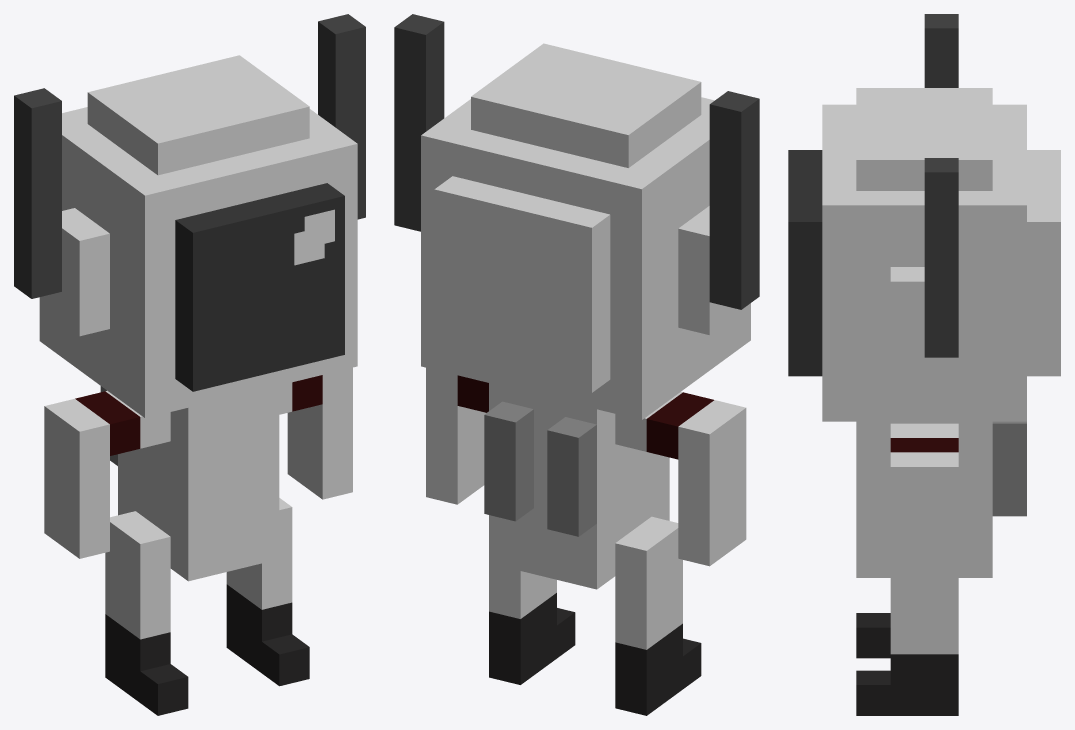
The model's file is oxrannik_ATB.fbx.
3 views of the same model, side by side, from view 1: azimuth 30°, elevation 25°; view 2: azimuth 150°, elevation 25°; view 3: azimuth 270°, elevation 25° (orthographic). The views are drawn at different scales.
Parts seen in each view (by area): view 1: polySurface5; view 2: polySurface5; view 3: polySurface5.
Boxes of the visible parts, bbox=[...] form: polySurface5: bbox=[14, 14, 365, 715]; polySurface5: bbox=[394, 14, 759, 715]; polySurface5: bbox=[788, 14, 1060, 715].
Size of the model in its own units: 11 by 19 by 8.01.
